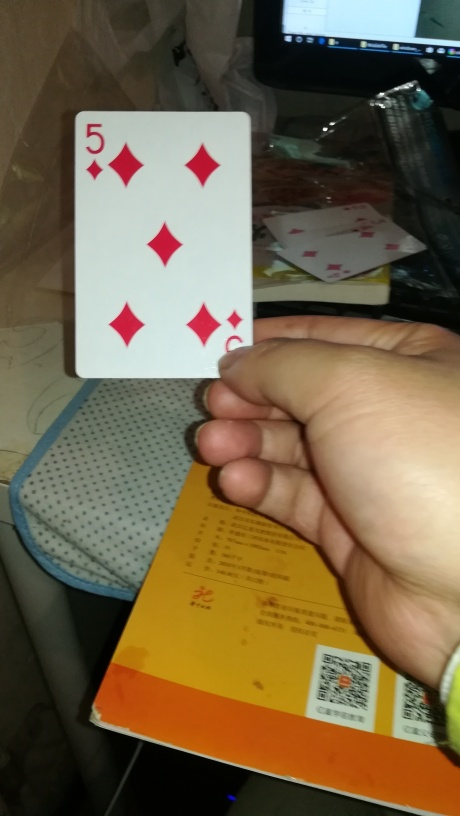fk 5: (72, 108, 257, 386)
